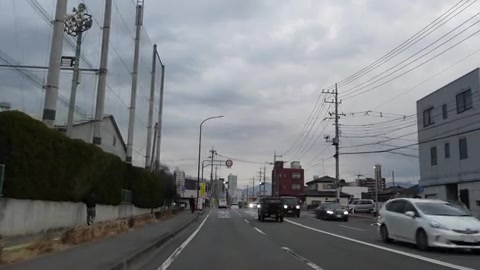traffic_sign: (225, 158, 235, 170)
